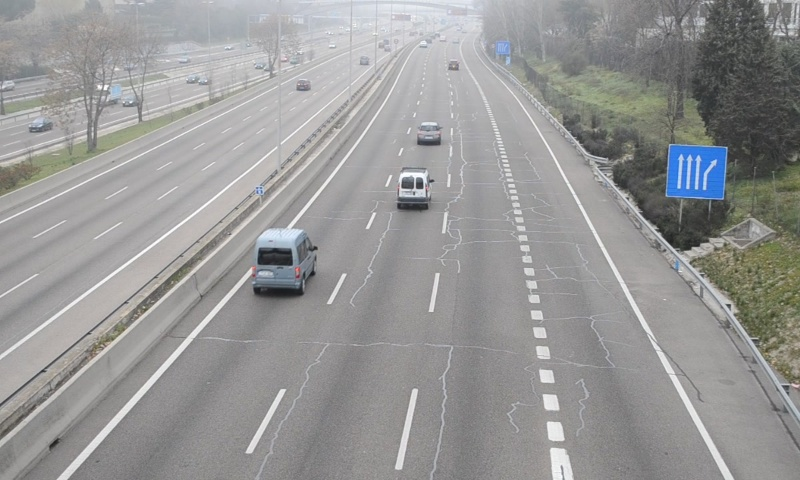car: (416, 122, 441, 144)
van: (252, 228, 316, 290), (396, 170, 432, 208)
